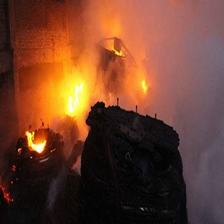fire: (93, 17, 163, 100), (55, 57, 86, 115), (21, 124, 51, 160)
